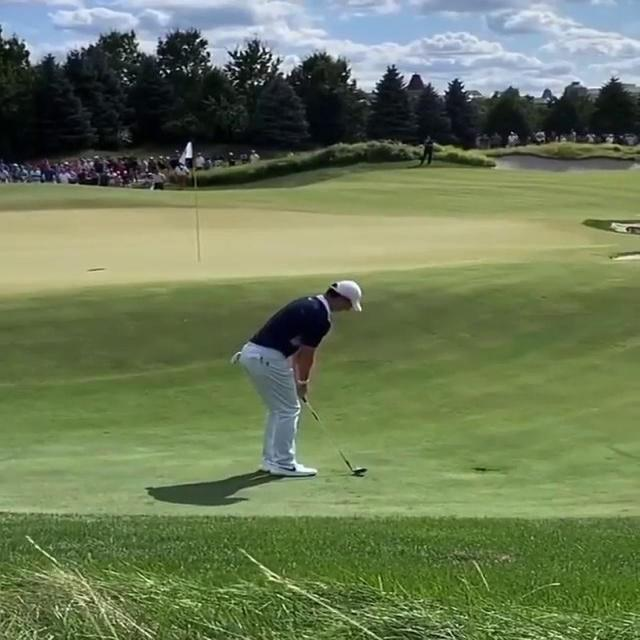ClubHandle: (297, 388, 370, 476)
ClubHead: (352, 467, 368, 474)
